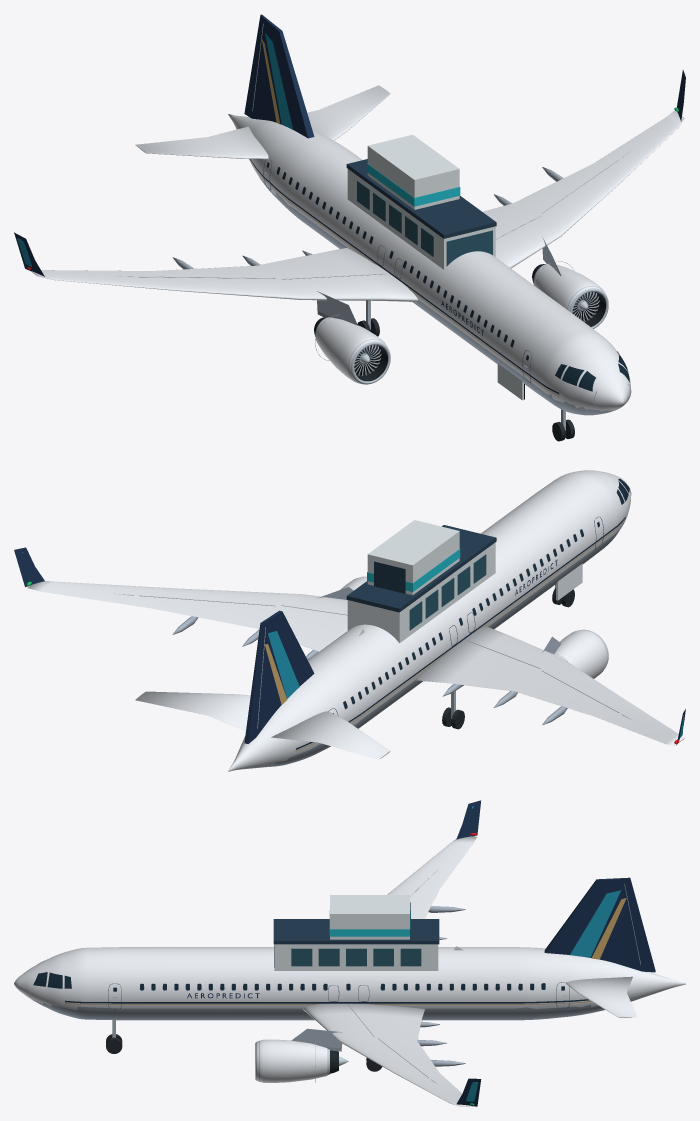
File: aeropredict-airport-activity.glb
3 renders of one model, top to bottom at view 1: azimuth 30°, elevation 25°; view 2: azimuth 150°, elevation 25°; view 3: azimuth 270°, elevation 25°, orthographic. The views are drawn at different scales.
Visible parts, largest first — view 1: V2 sculpted fuselage.002, V2 Ceramic pearl paint.003, BusPrototype body, V2 Midnight blue.003, Catering lift body, V2 Satin aluminium.003, V2 Intake graphite.003, V2 Warm grey belly.003, V2 Blue black glazing.003, V2 Aviation cyan.003, V2 Panel seams.003, V2 Brushed champagne.003; view 2: V2 sculpted fuselage.002, V2 Ceramic pearl paint.003, BusPrototype body, V2 Midnight blue.003, Catering lift body, V2 Warm grey belly.003, V2 Blue black glazing.003, V2 Aviation cyan.003, V2 Panel seams.003, V2 Brushed champagne.003, V2 Satin aluminium.003, Hinged cargo door; view 3: V2 sculpted fuselage.002, V2 Ceramic pearl paint.003, BusPrototype body, V2 Midnight blue.003, Catering lift body, V2 Blue black glazing.003, V2 Warm grey belly.003, V2 Aviation cyan.003, V2 Brushed champagne.003, V2 Panel seams.003, V2 Satin aluminium.003.
Part boxes in pixels (bbox=[...]): V2 sculpted fuselage.002: bbox=[228, 114, 630, 415]; V2 Ceramic pearl paint.003: bbox=[31, 85, 684, 384]; BusPrototype body: bbox=[346, 159, 496, 269]; V2 Midnight blue.003: bbox=[14, 14, 685, 393]; Catering lift body: bbox=[367, 134, 460, 209]; V2 Satin aluminium.003: bbox=[114, 23, 632, 384]; V2 Intake graphite.003: bbox=[314, 264, 605, 381]; V2 Warm grey belly.003: bbox=[172, 167, 631, 408]; V2 Blue black glazing.003: bbox=[266, 162, 629, 391]; V2 Aviation cyan.003: bbox=[17, 33, 684, 266]; V2 Panel seams.003: bbox=[263, 157, 531, 382]; V2 Brushed champagne.003: bbox=[249, 39, 559, 395]; V2 sculpted fuselage.002: bbox=[228, 470, 630, 771]; V2 Ceramic pearl paint.003: bbox=[27, 576, 684, 759]; BusPrototype body: bbox=[346, 525, 496, 643]; V2 Midnight blue.003: bbox=[14, 517, 685, 749]; Catering lift body: bbox=[367, 520, 460, 595]; V2 Warm grey belly.003: bbox=[172, 485, 631, 725]; V2 Blue black glazing.003: bbox=[333, 478, 629, 713]; V2 Aviation cyan.003: bbox=[22, 552, 683, 738]; V2 Panel seams.003: bbox=[328, 516, 603, 716]; V2 Brushed champagne.003: bbox=[264, 519, 625, 751]; V2 Satin aluminium.003: bbox=[113, 532, 632, 728]; Hinged cargo door: bbox=[556, 563, 582, 600]; V2 sculpted fuselage.002: bbox=[14, 947, 685, 1020]; V2 Ceramic pearl paint.003: bbox=[257, 836, 637, 1106]; BusPrototype body: bbox=[273, 919, 439, 970]; V2 Midnight blue.003: bbox=[65, 800, 655, 1106]; Catering lift body: bbox=[329, 895, 410, 939]; V2 Blue black glazing.003: bbox=[33, 961, 564, 991]; V2 Warm grey belly.003: bbox=[30, 906, 465, 1082]; V2 Aviation cyan.003: bbox=[466, 806, 620, 1101]; V2 Brushed champagne.003: bbox=[65, 898, 626, 1004]; V2 Panel seams.003: bbox=[108, 982, 569, 1009]; V2 Satin aluminium.003: bbox=[112, 869, 640, 1084].
Bounding box in the file's own units: 36.2 × 10.51 × 36.9.
